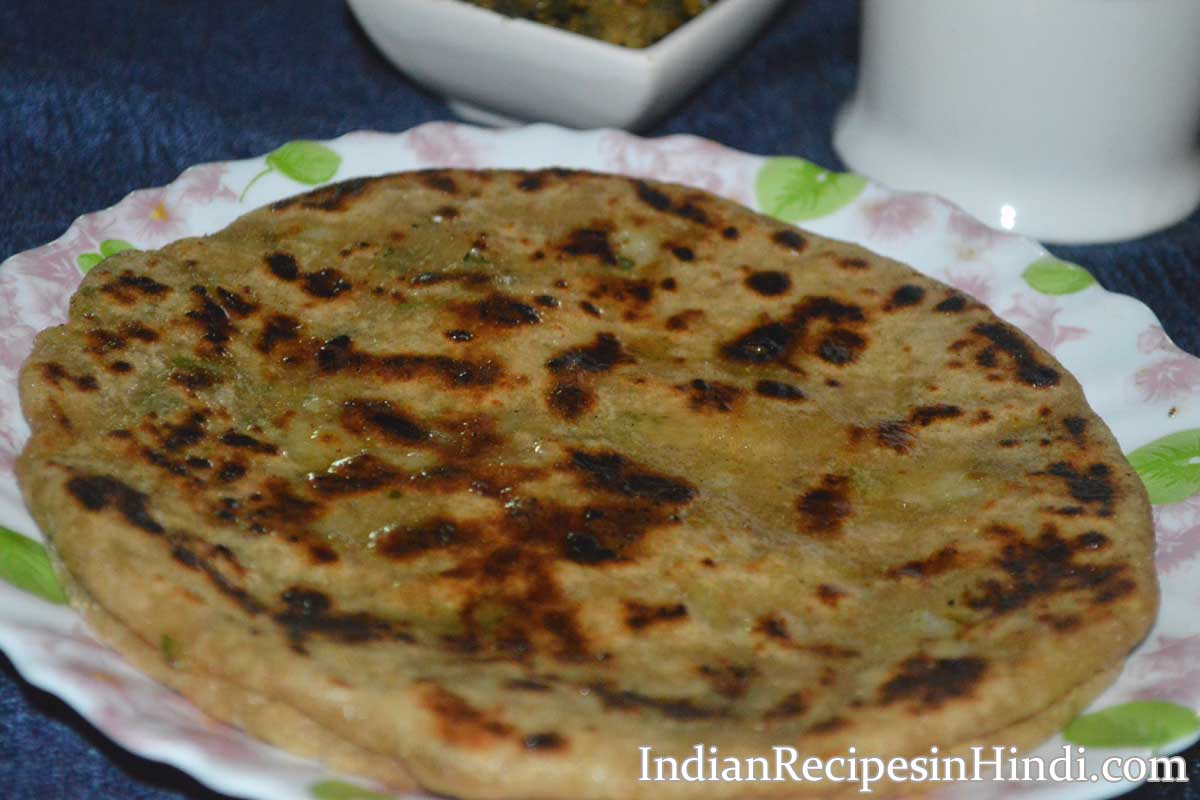aloo_paratha: (19, 165, 1164, 781)
